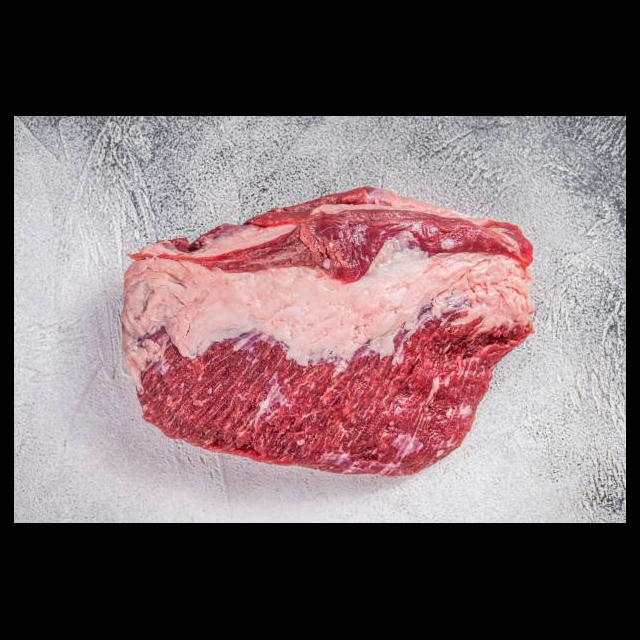beef: (122, 186, 537, 476)
